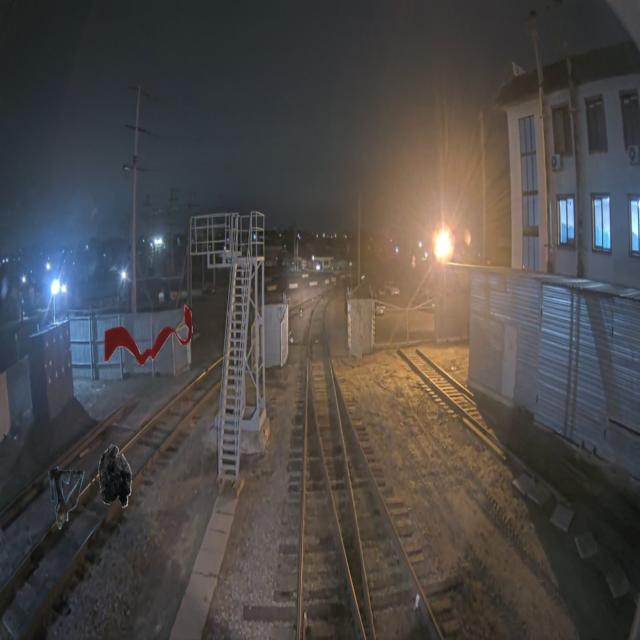floating object: (103, 303, 193, 367), (48, 466, 84, 530)
plastic bag: (98, 444, 132, 508)
